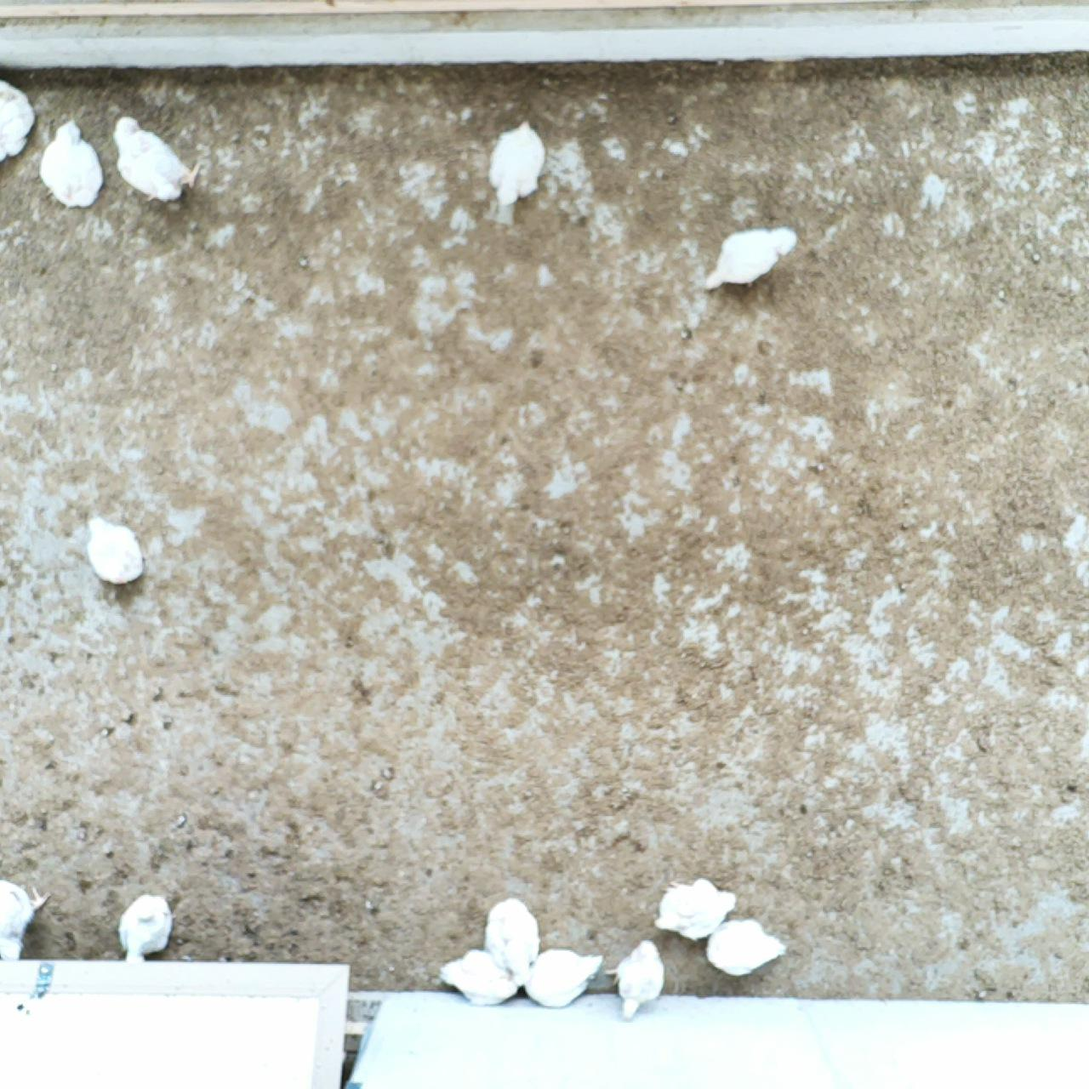chicken: (111, 115, 203, 206), (703, 220, 802, 296), (37, 118, 108, 211), (482, 889, 545, 989), (648, 875, 739, 944), (484, 116, 550, 210), (602, 938, 671, 1022), (433, 944, 521, 1008), (82, 505, 146, 590), (700, 918, 789, 978), (524, 947, 607, 1011), (0, 874, 54, 965), (116, 890, 175, 965), (0, 78, 37, 169)
